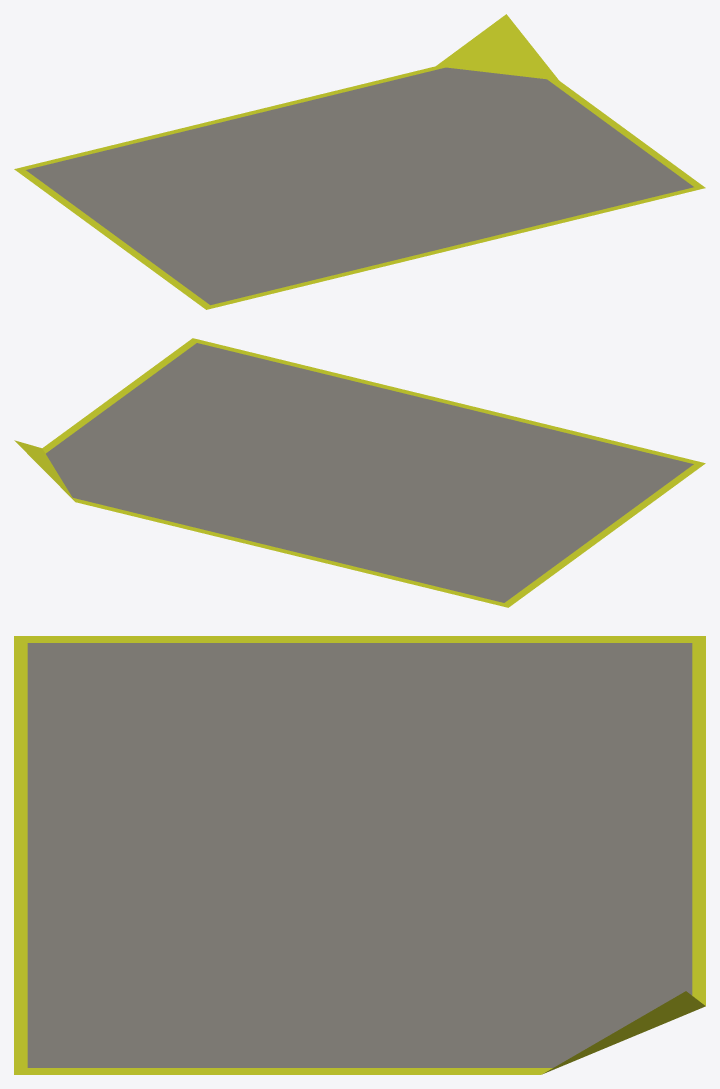
Rendered from memo.fbx.
The picture shows the model from 3 angles, top to bottom: view 1: azimuth 30°, elevation 25°; view 2: azimuth 150°, elevation 25°; view 3: azimuth 270°, elevation 25°; orthographic projection. The views are drawn at different scales.
Visible parts, largest first — view 1: Plane; view 2: Plane; view 3: Plane.
Boxes of the visible parts, x1,y1,x2,y2 form: Plane: [14, 14, 705, 309]; Plane: [14, 338, 705, 607]; Plane: [14, 636, 705, 1074].
Bounding box in the file's own units: 300 × 23.18 × 200.
